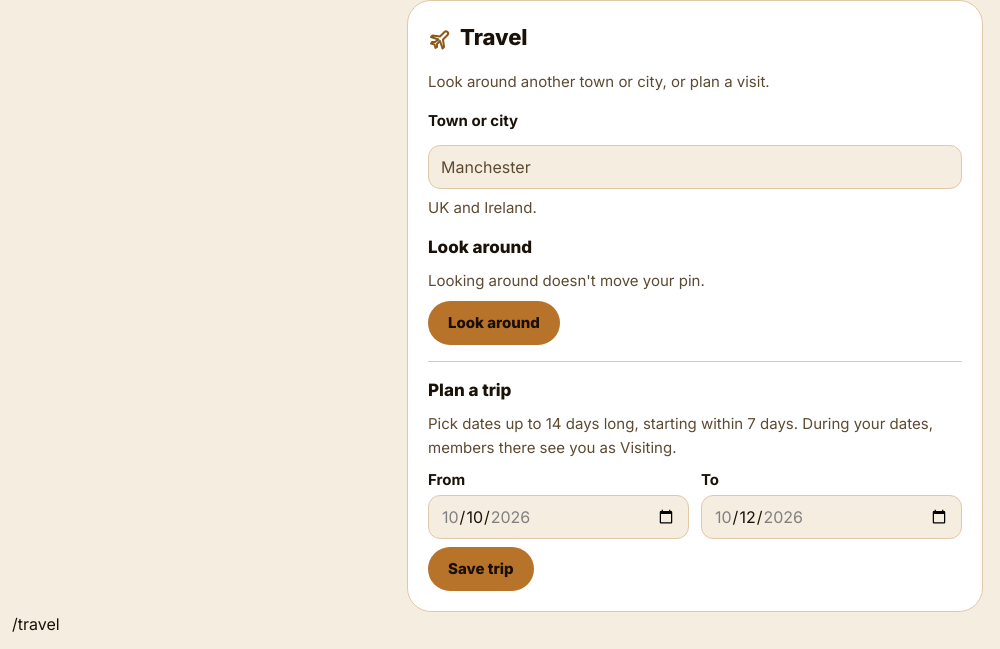
Test case: TravelSheet › a 402 from the server shows the Premium card
The width and height of the screenshot is (1000, 649).
Type "Leeds" into the field with test id "travel-city" at (695, 167), box 428,145 -> 962,189
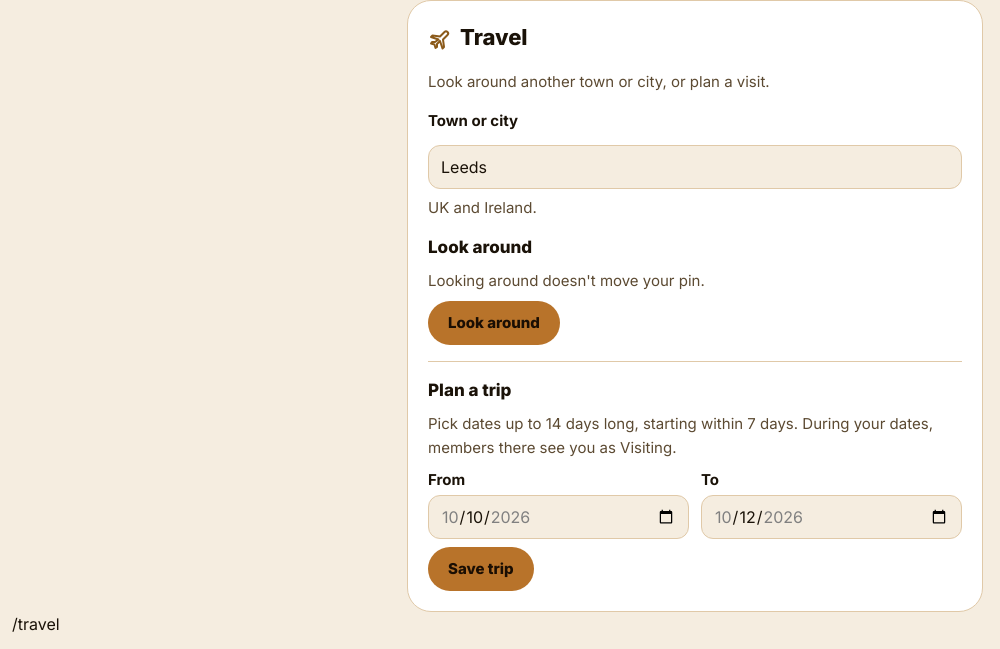
Click the button with test id "travel-save-trip" at (481, 569), box 428,547 -> 534,591
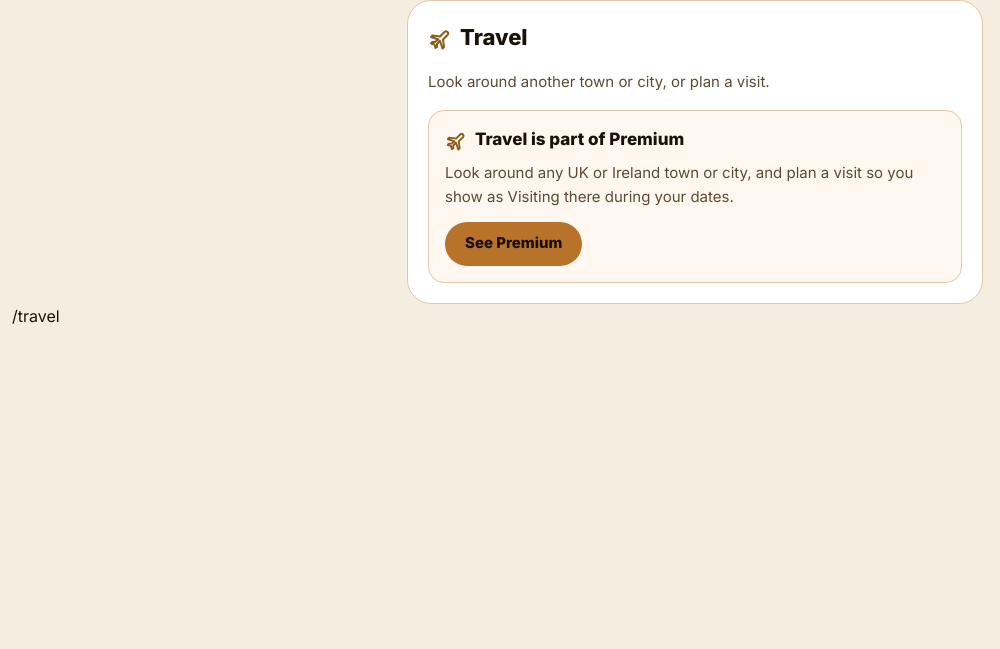
Expected: the element with test id "travel-premium-gate" is shown, 428,110 -> 962,283
